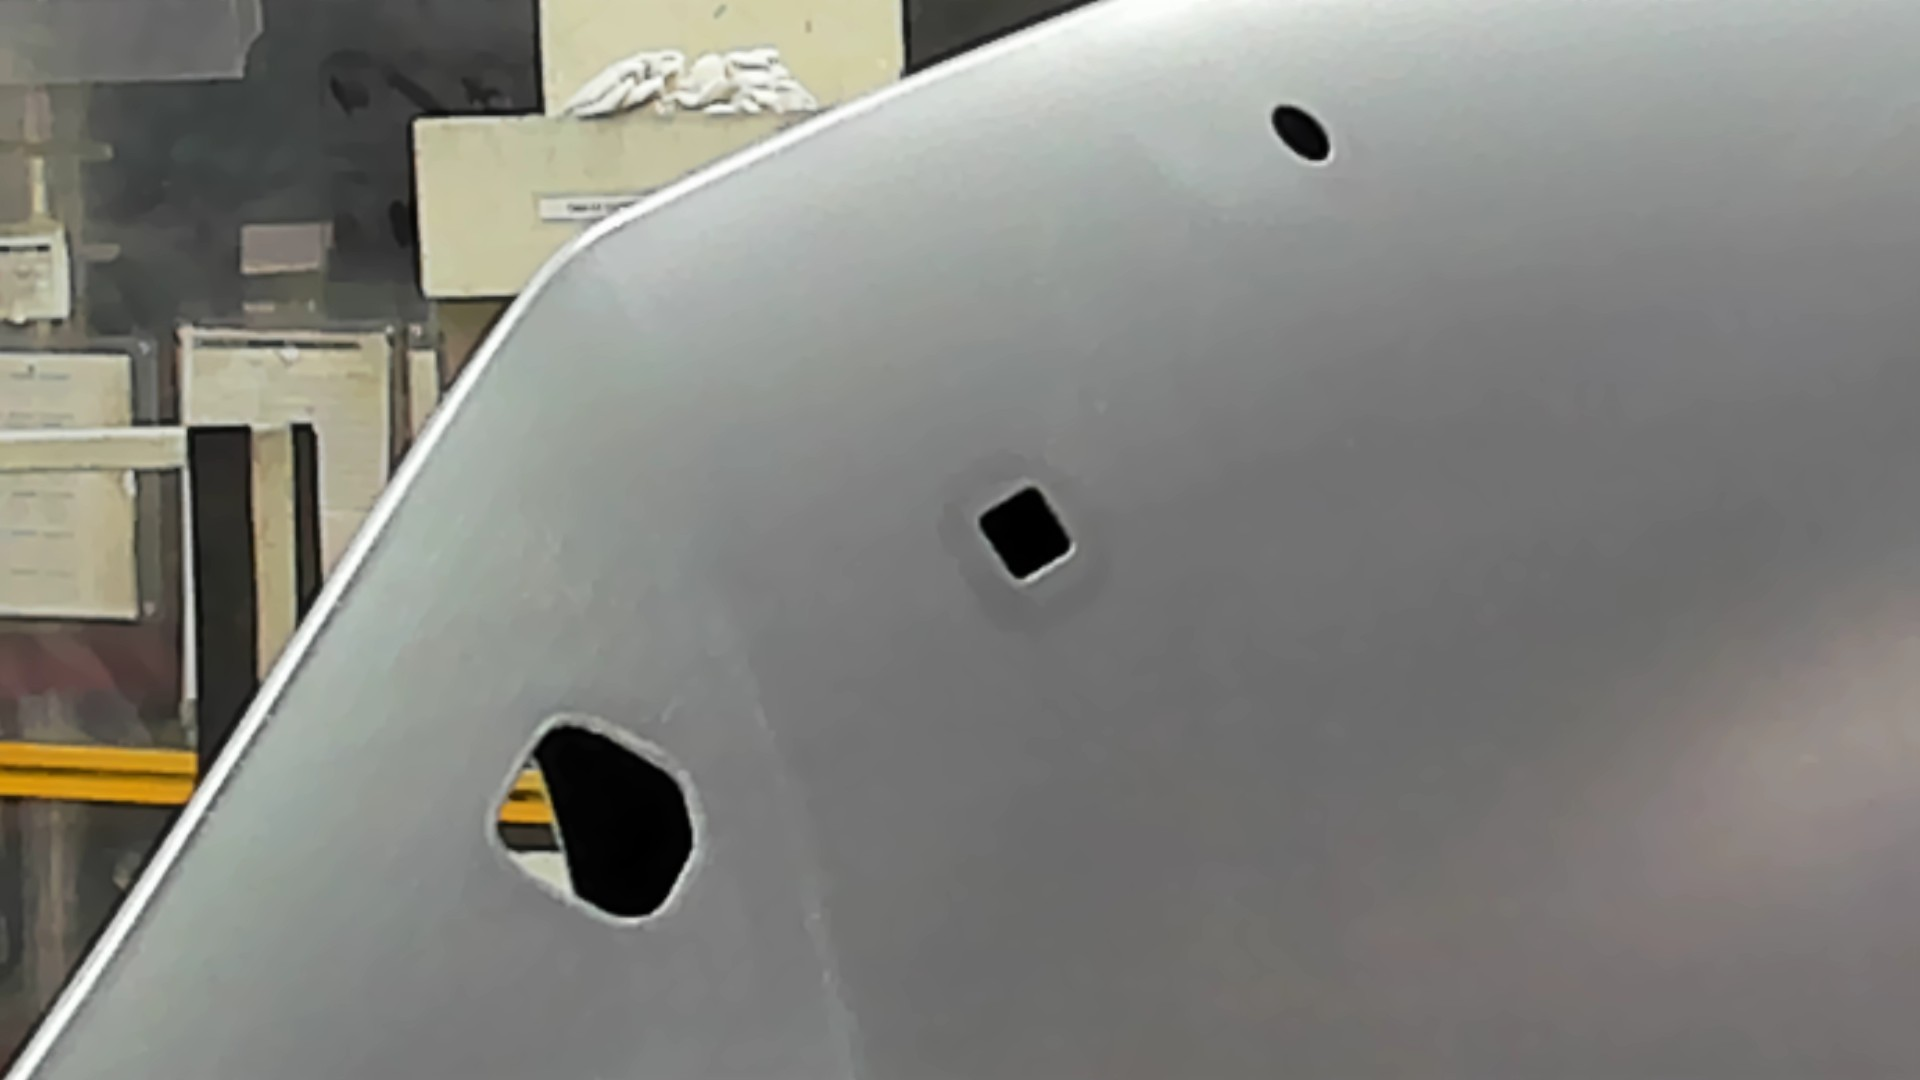chico: (1265, 99, 1337, 167)
grande: (483, 705, 707, 935)
mediano: (967, 473, 1081, 595)
